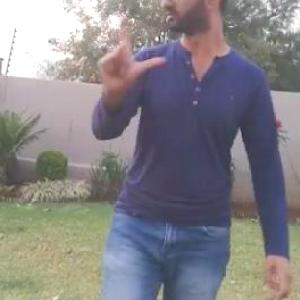land_hand: (93, 22, 167, 94)
